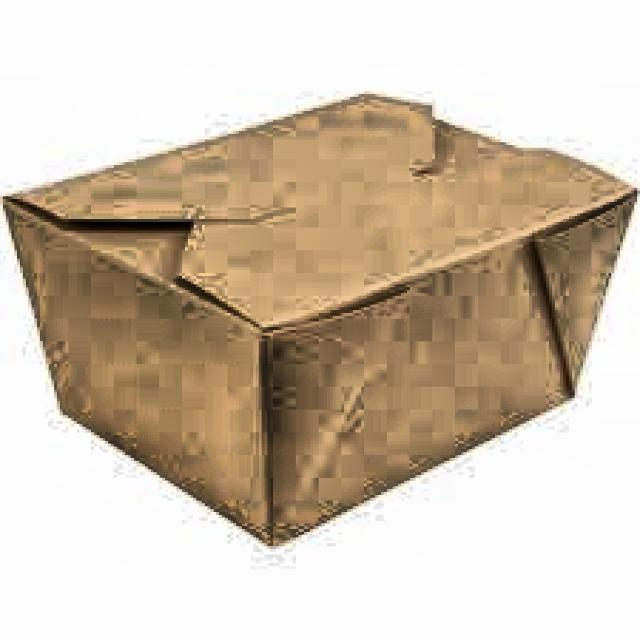cardboard: (0, 88, 637, 546)
